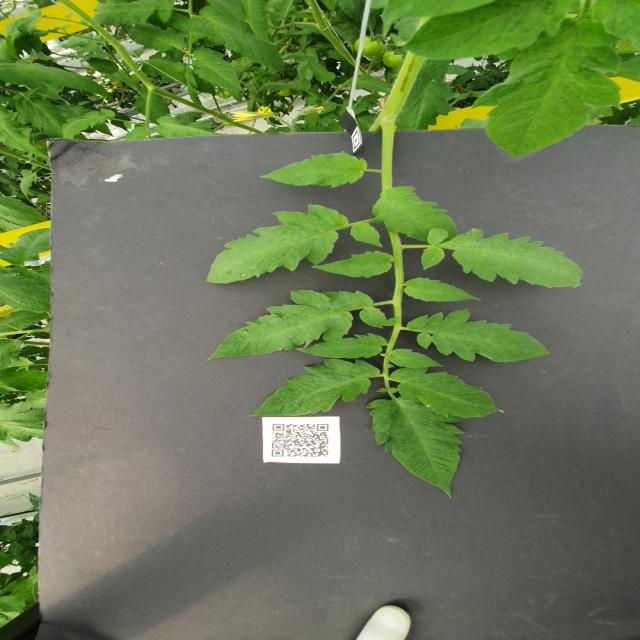Healthy Leaf: (471, 18, 623, 160), (208, 290, 389, 362), (207, 204, 350, 287), (400, 1, 582, 63), (367, 399, 467, 500), (421, 229, 586, 290), (406, 310, 555, 364), (249, 359, 380, 417), (192, 6, 287, 77), (390, 368, 507, 420), (1, 62, 117, 106), (373, 187, 460, 245), (261, 151, 369, 189), (397, 83, 455, 130), (194, 48, 248, 94), (296, 334, 389, 360), (313, 251, 393, 281), (1, 110, 46, 160), (90, 1, 175, 27), (1, 274, 52, 314), (1, 229, 53, 268), (405, 278, 481, 304), (61, 108, 117, 140), (127, 24, 188, 53), (156, 117, 227, 139), (1, 366, 48, 394), (391, 349, 445, 369), (352, 222, 386, 249), (350, 76, 394, 95), (306, 58, 337, 83)
